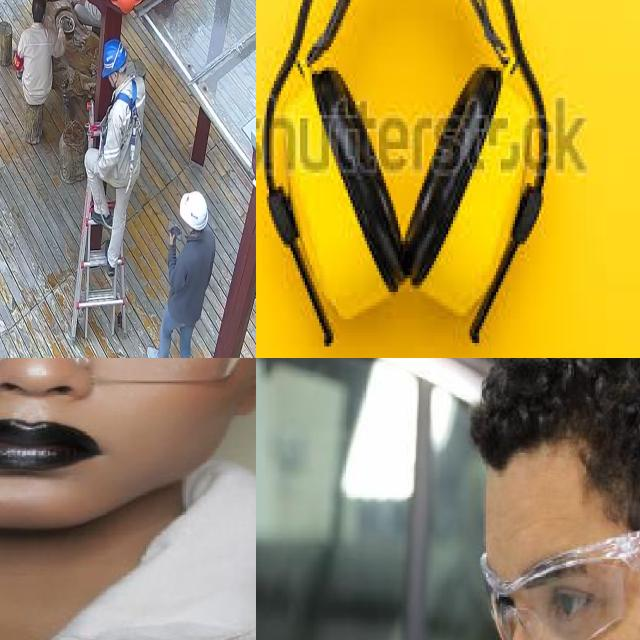Ear-protection: (405, 57, 532, 316), (276, 61, 403, 319)
Harness: (116, 78, 145, 154)
face_mask: (474, 499, 640, 640)
face_nomask: (0, 358, 176, 488), (476, 549, 618, 640)
head_nohelmet: (465, 358, 640, 502)
